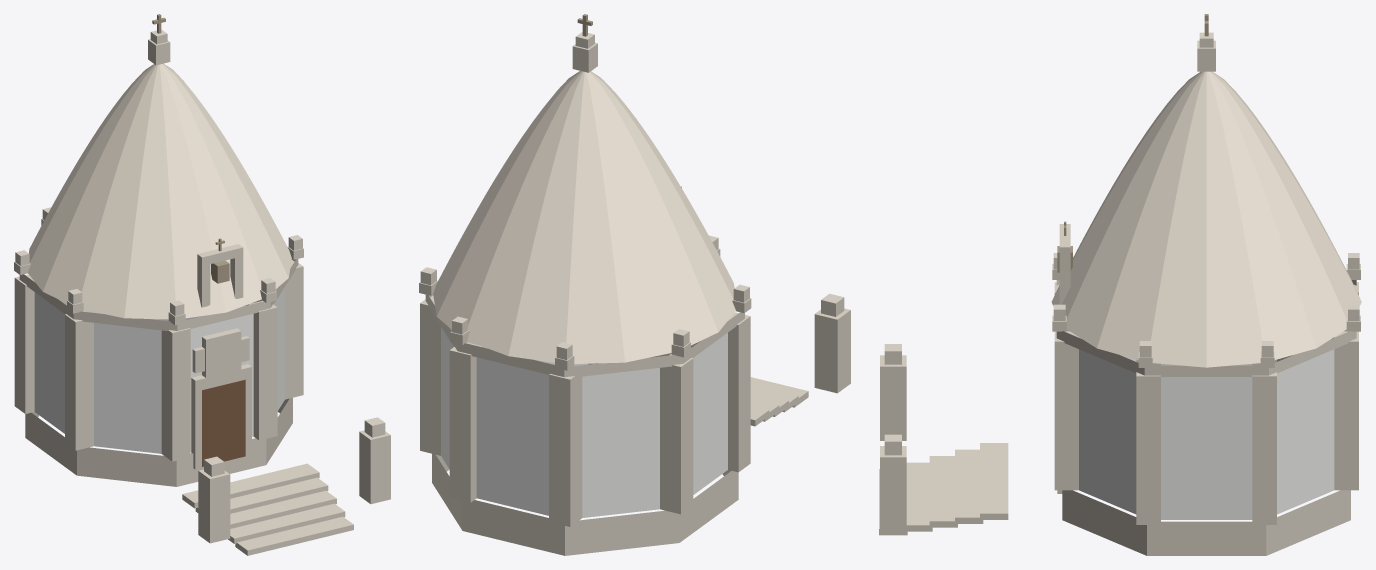
File: santuario_monte.glb
3 views of the same model, side by side, from view 1: azimuth 30°, elevation 25°; view 2: azimuth 150°, elevation 25°; view 3: azimuth 270°, elevation 25° (orthographic). The views are drawn at different scales.
Size of the model in its own units: 9.84 by 17.16 by 15.3.
